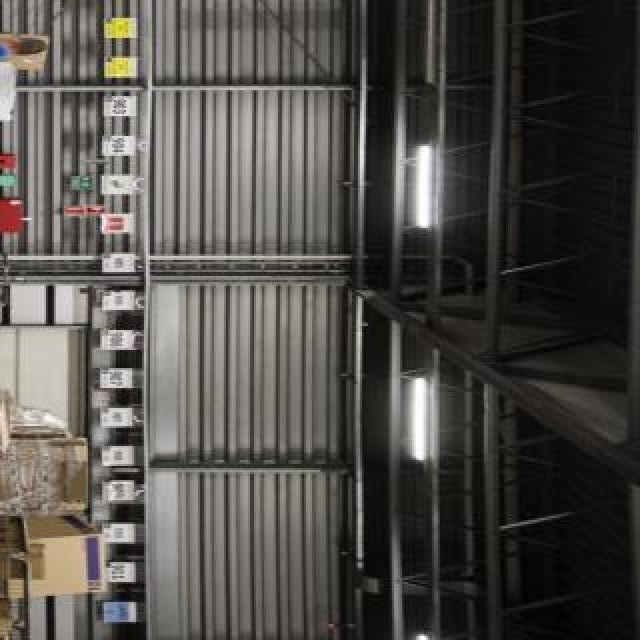fluorescent tube: (400, 369, 435, 471), (411, 133, 434, 242)
